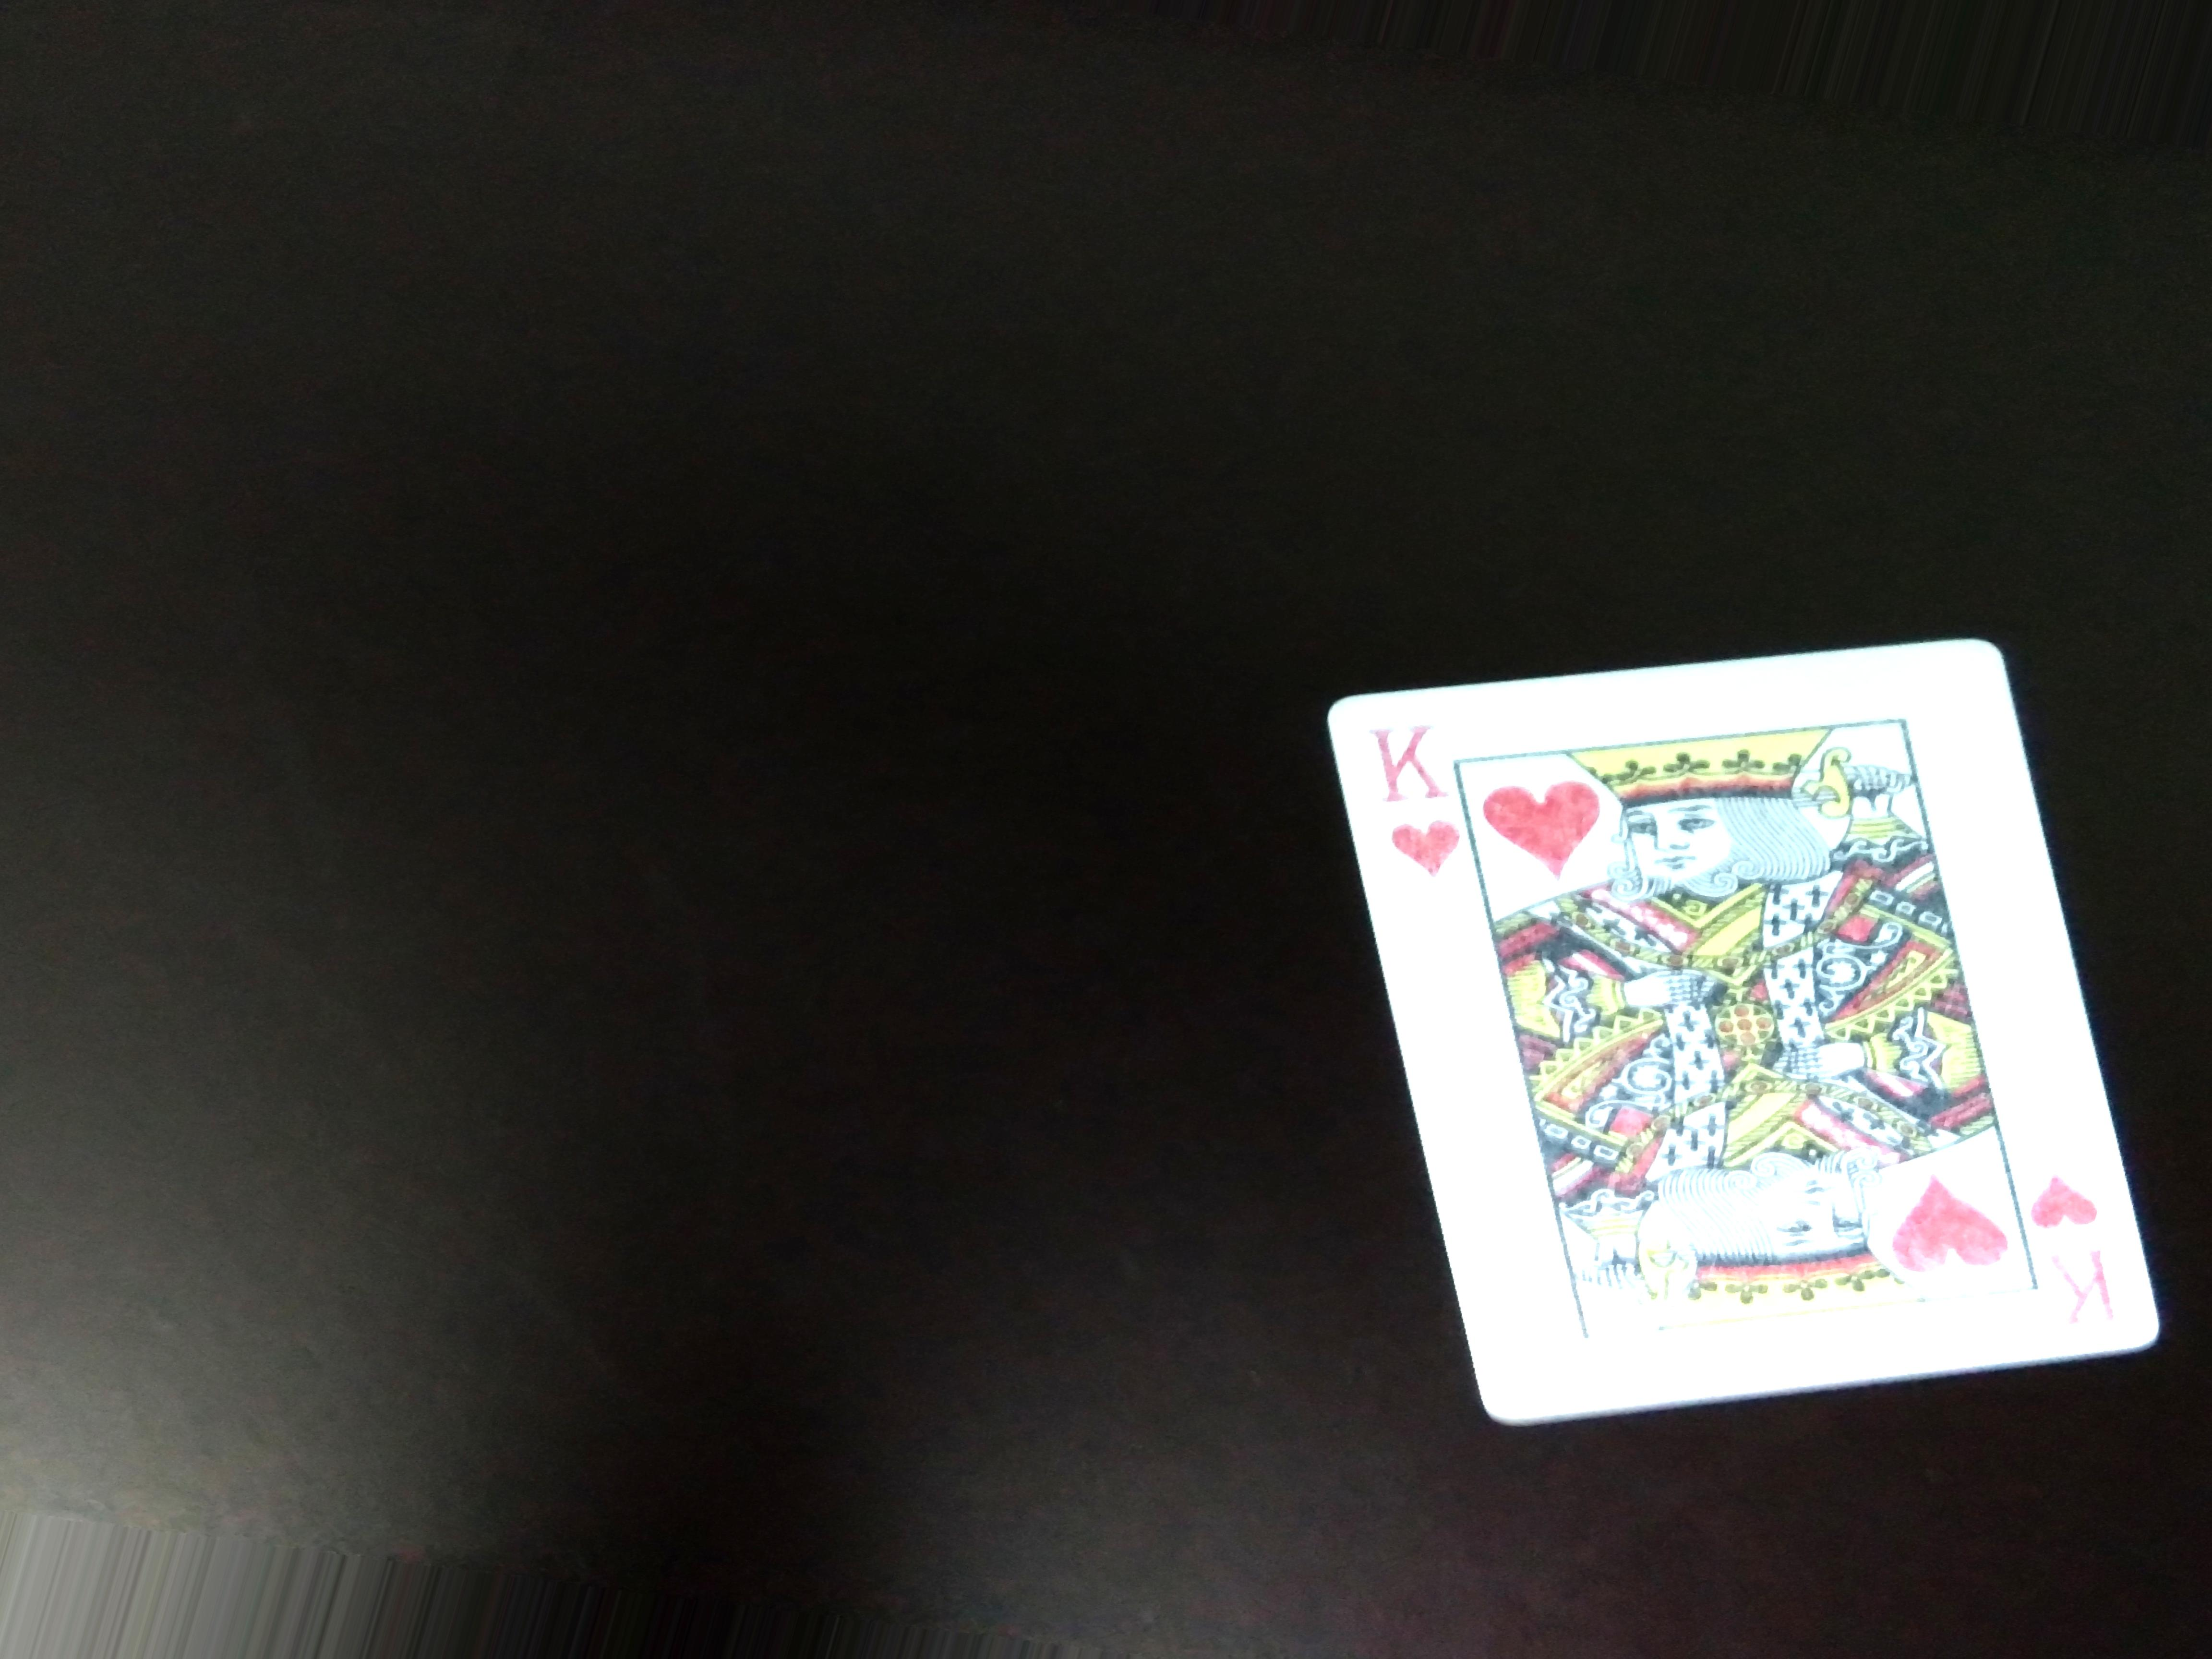KH: (1360, 713, 1467, 906)
